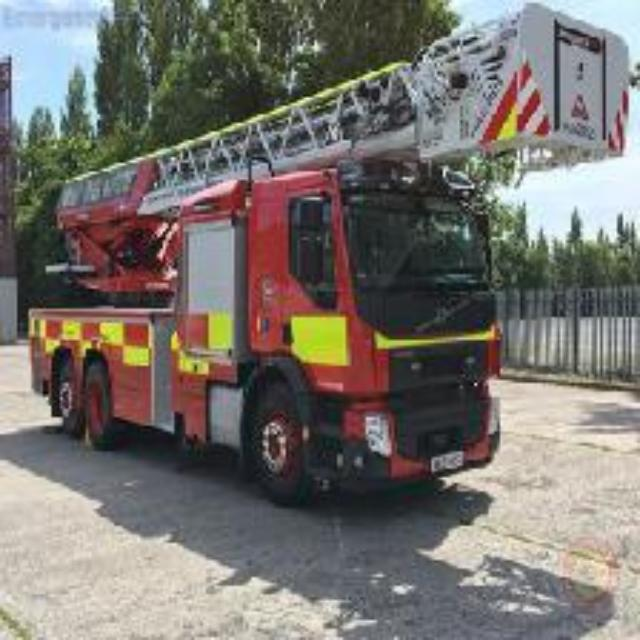emergency: (31, 175, 502, 503)
